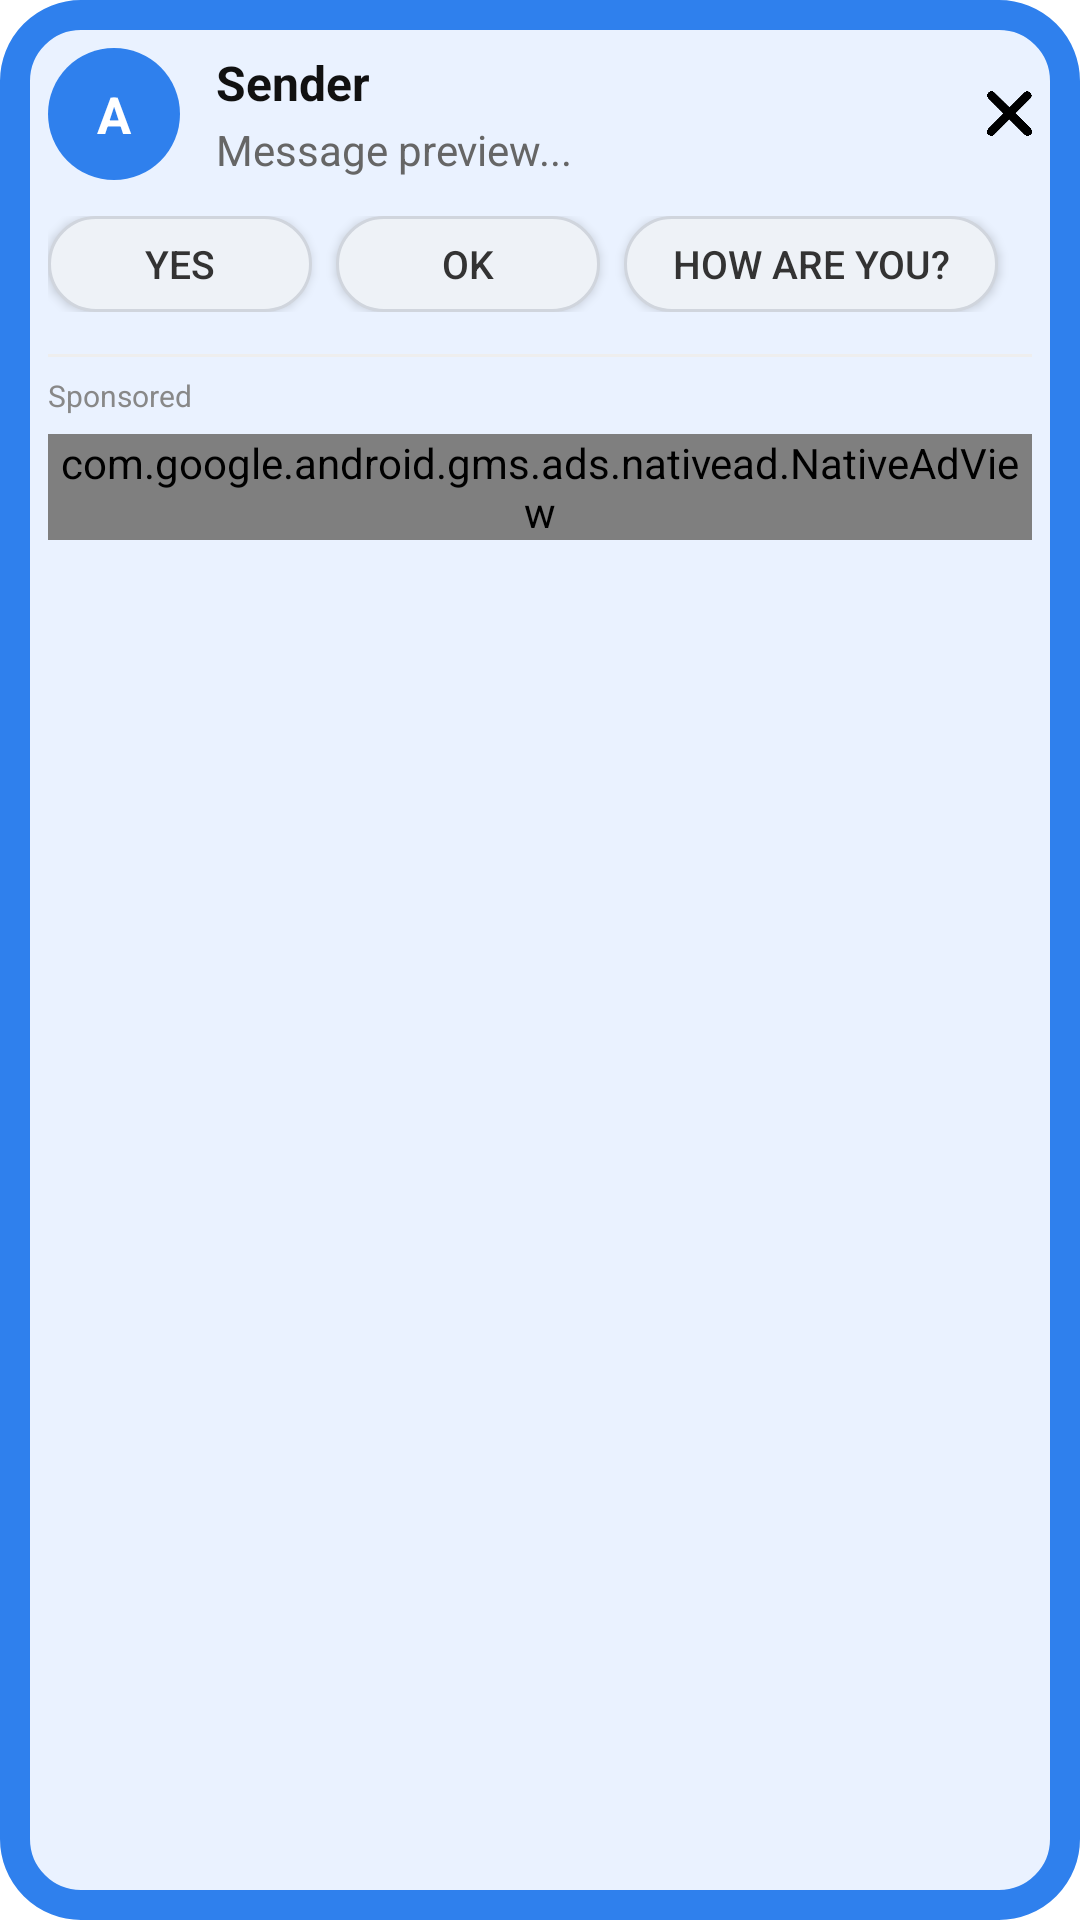

Screen size 1080 x 1920. Icon name, then its box in pixels as (x1, y1, x2, y2):
close: (987, 91, 1032, 136)
